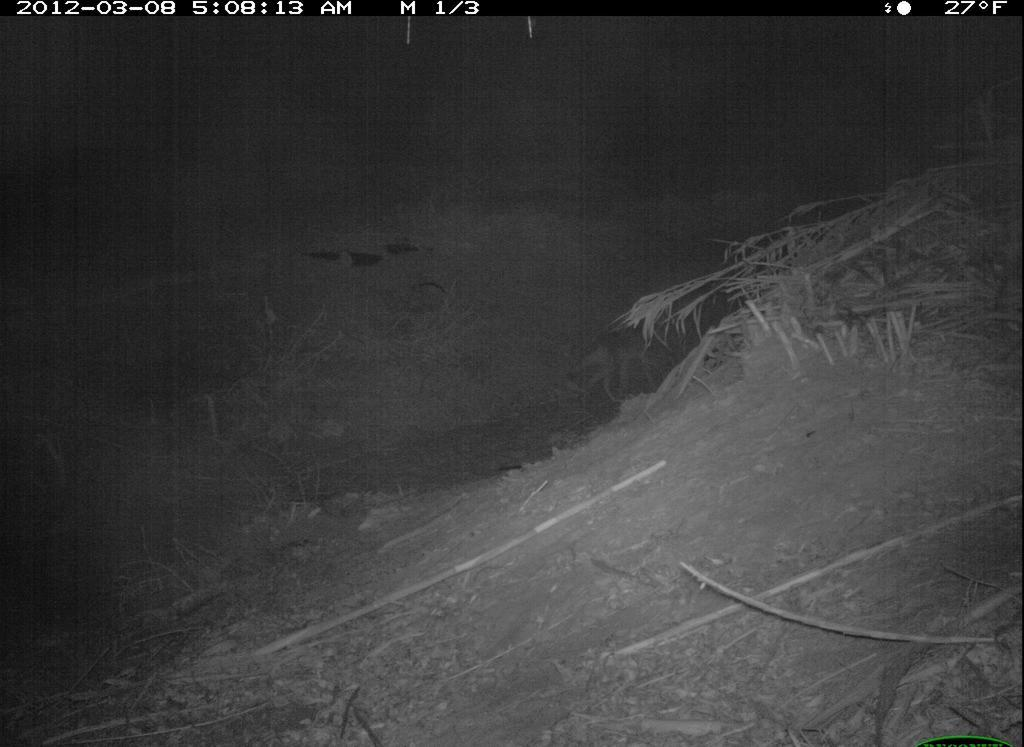coyote: (552, 306, 676, 408)
